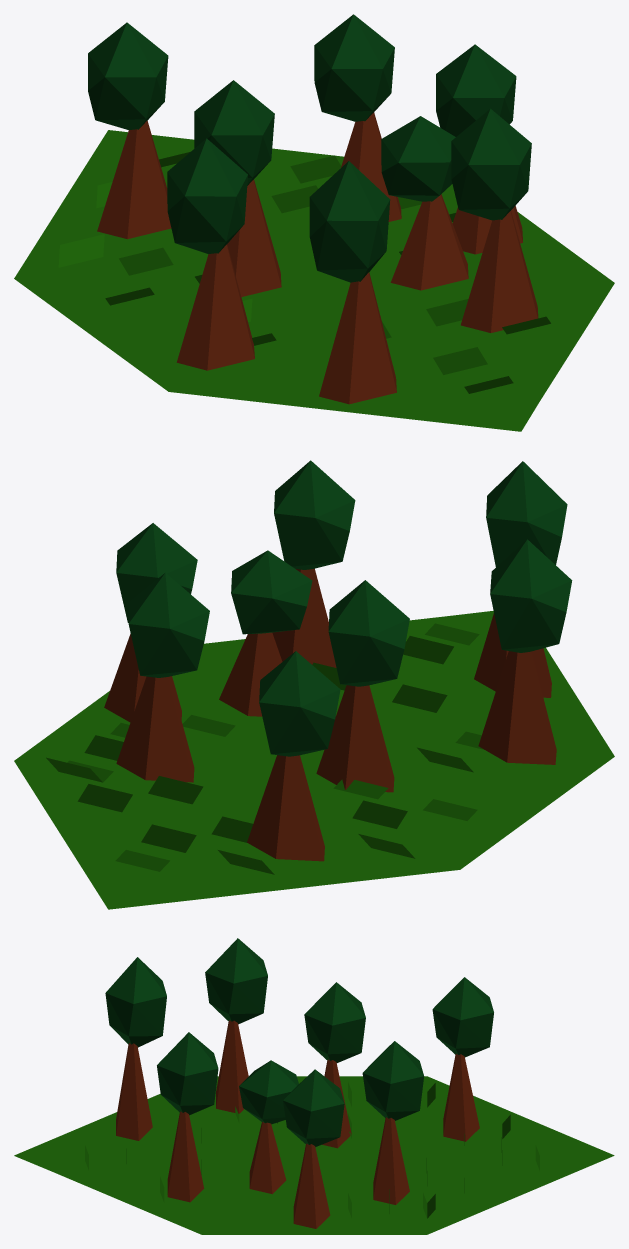
Rendered from lumber.fbx.
The picture shows the model from 3 angles, top to bottom: view 1: azimuth 30°, elevation 25°; view 2: azimuth 150°, elevation 25°; view 3: azimuth 270°, elevation 25°; orthographic projection. The views are drawn at different scales.
Visible parts, largest first — view 1: Plane, Icosphere.001, Icosphere.005, Icosphere.003, Icosphere.004, Icosphere.006, Icosphere, Icosphere.002, Icosphere.007; view 2: Plane, Icosphere.005, Icosphere.004, Icosphere, Icosphere.002, Icosphere.003, Icosphere.006, Icosphere.001, Icosphere.007; view 3: Plane, Icosphere.001, Icosphere.005, Icosphere.003, Icosphere.004, Icosphere, Icosphere.007, Icosphere.006, Icosphere.002.
Boxes of the visible parts, <box> form: Plane: <box>14,130,614,431</box>; Icosphere.001: <box>309,161,396,404</box>; Icosphere.005: <box>167,138,254,370</box>; Icosphere.003: <box>451,108,538,332</box>; Icosphere.004: <box>88,22,171,239</box>; Icosphere.006: <box>381,116,468,290</box>; Icosphere: <box>314,14,401,221</box>; Icosphere.002: <box>194,80,281,296</box>; Icosphere.007: <box>436,44,522,254</box>; Plane: <box>14,610,614,909</box>; Icosphere.005: <box>478,539,572,764</box>; Icosphere.004: <box>247,651,340,861</box>; Icosphere: <box>116,572,209,782</box>; Icosphere.002: <box>316,580,409,792</box>; Icosphere.003: <box>272,460,355,667</box>; Icosphere.006: <box>219,550,312,716</box>; Icosphere.001: <box>474,461,567,697</box>; Icosphere.007: <box>104,523,197,722</box>; Plane: <box>14,1076,614,1234</box>; Icosphere.001: <box>105,957,166,1140</box>; Icosphere.005: <box>205,938,267,1113</box>; Icosphere.003: <box>157,1032,218,1202</box>; Icosphere.004: <box>432,977,493,1141</box>; Icosphere: <box>362,1041,424,1204</box>; Icosphere.007: <box>283,1069,344,1228</box>; Icosphere.006: <box>239,1060,298,1194</box>; Icosphere.002: <box>304,982,365,1148</box>.
Bounding box in the file's own units: 1.25 × 0.616 × 2.
